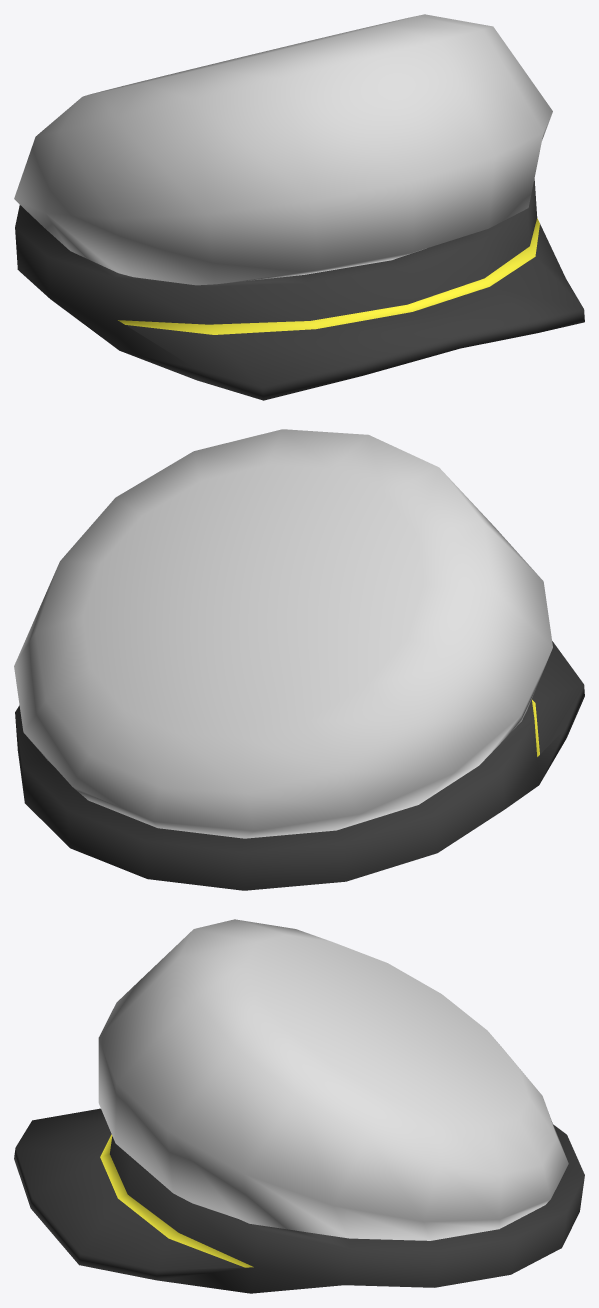
The model's file is fleet.fbx.
3 renders of one model, top to bottom at view 1: azimuth 30°, elevation 25°; view 2: azimuth 150°, elevation 25°; view 3: azimuth 270°, elevation 25°, orthographic. The views are drawn at different scales.
Visible parts, largest first — view 1: фуражка; view 2: фуражка; view 3: фуражка.
Part boxes in pixels (bbox=[...]): фуражка: bbox=[14, 14, 584, 400]; фуражка: bbox=[14, 429, 584, 890]; фуражка: bbox=[14, 919, 584, 1293].
Size of the model in its own units: 207 by 117 by 238.
